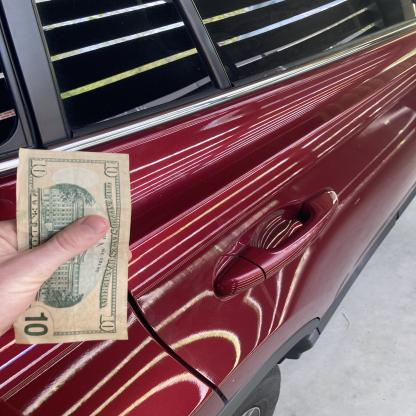ten-back: (14, 148, 130, 344)
